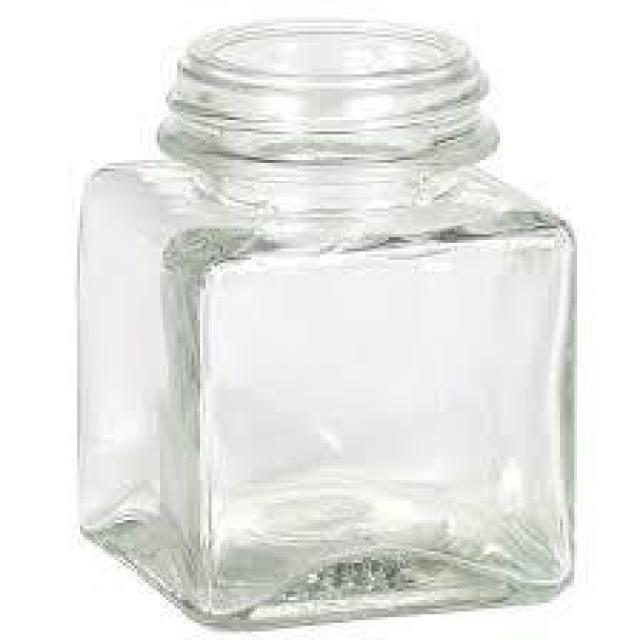Glass: (74, 15, 580, 636)
